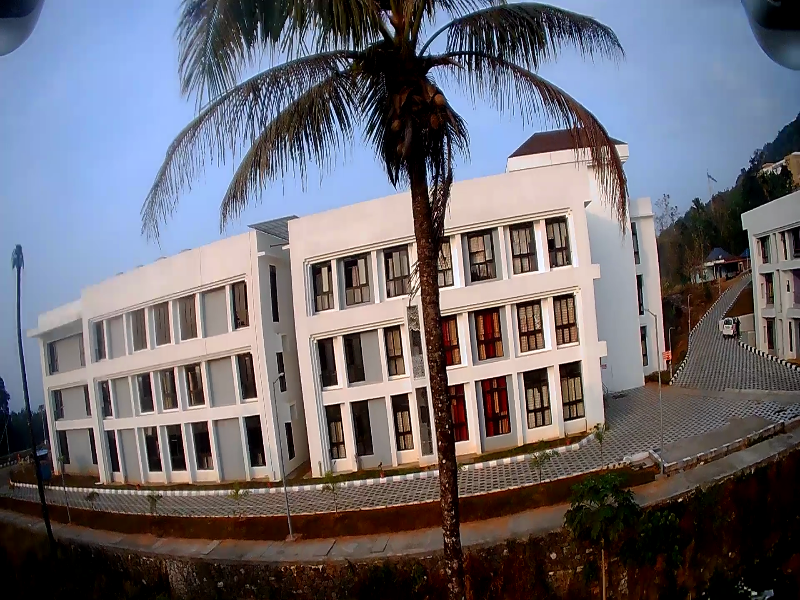coconut: (432, 90, 450, 112), (427, 112, 444, 129), (392, 117, 399, 130)
